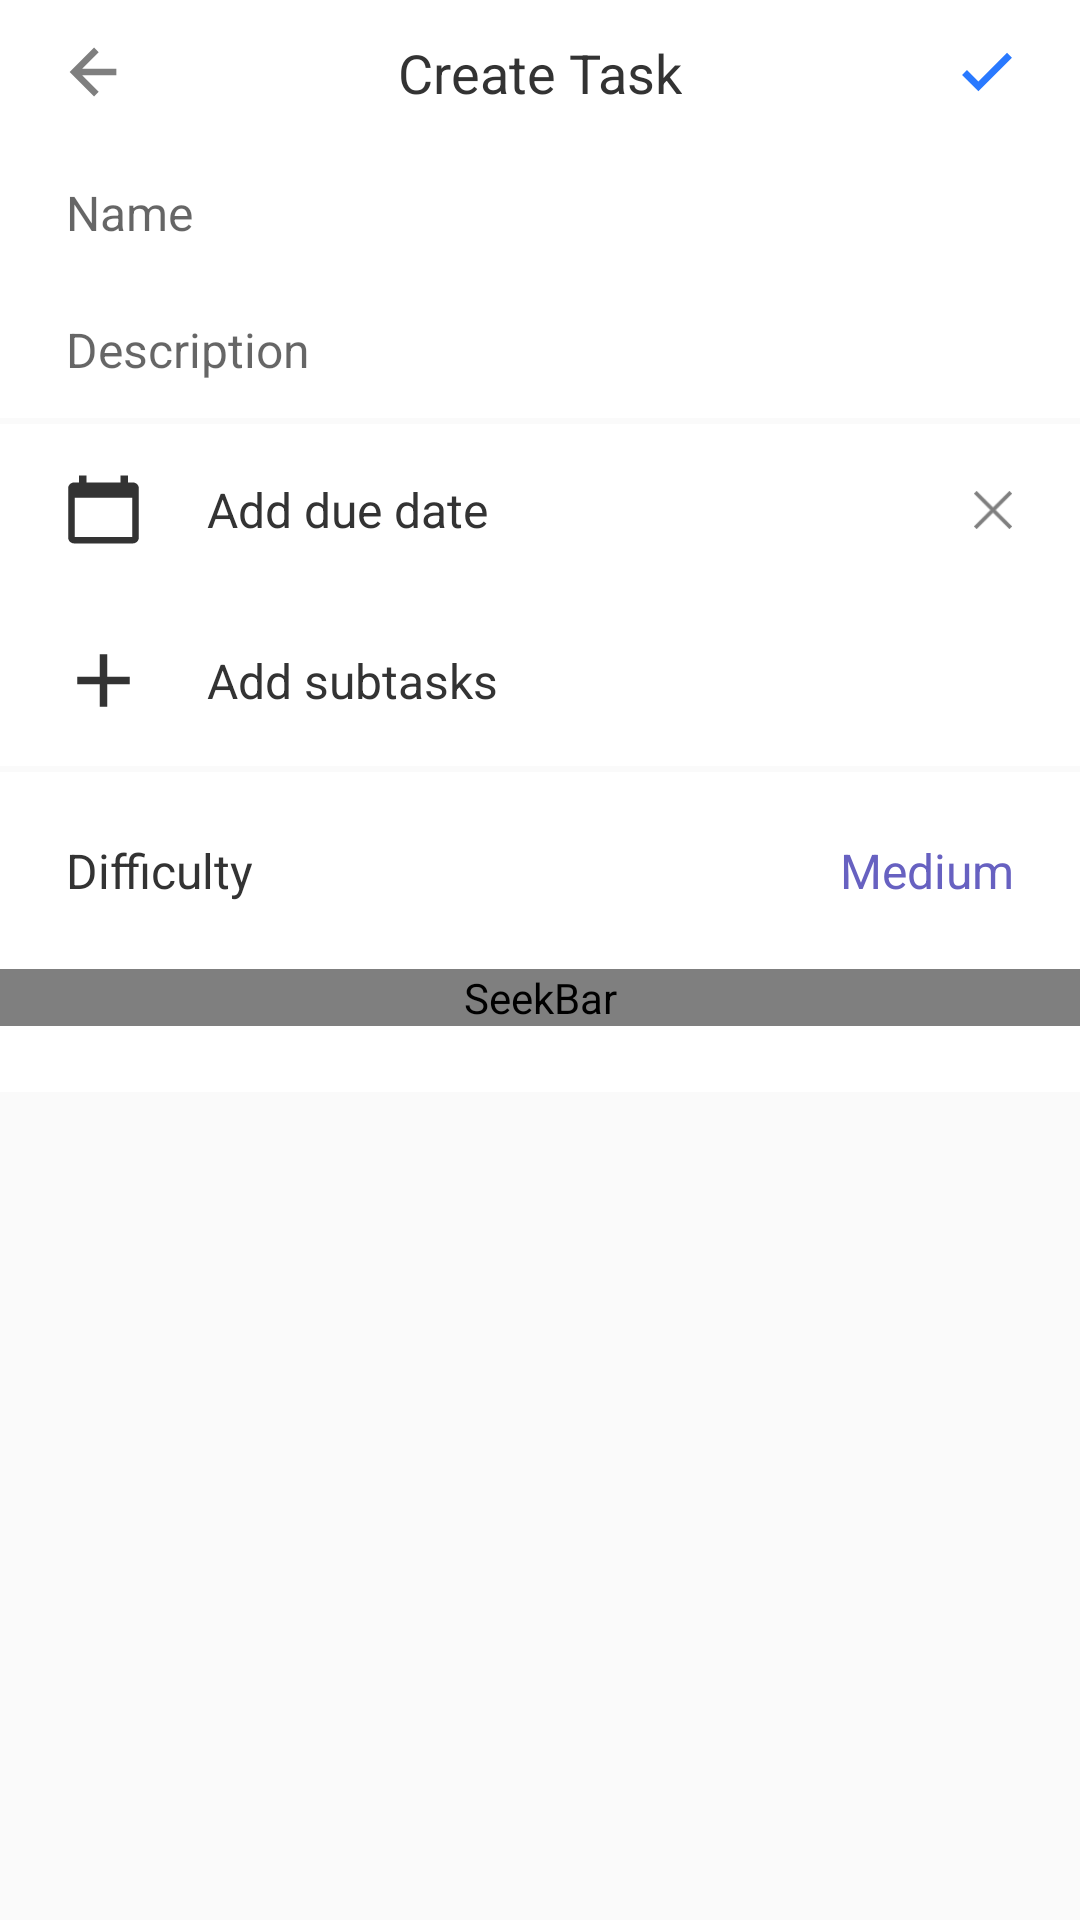

Icons on this 1080 x 1920 Android screen, each with the point to tap as (x,y):
back arrow: (93,72)
calendar: (103,509)
cross: (993,510)
plus: (103,680)
tick: (987,72)
